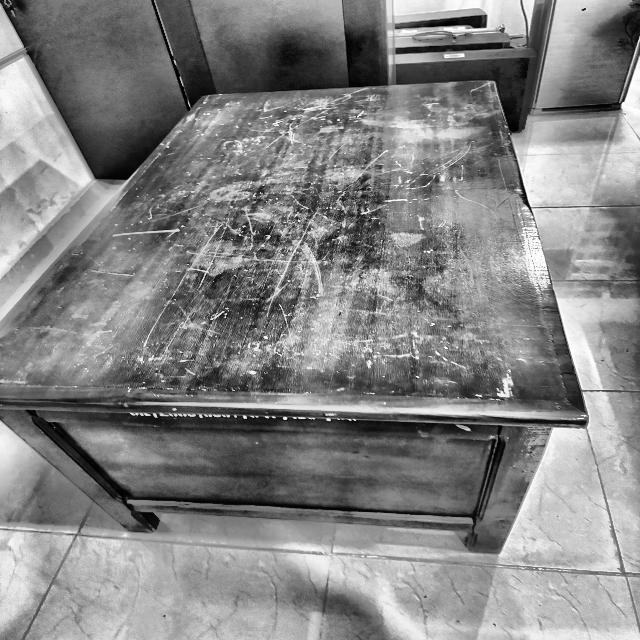table: (0, 80, 607, 572)
